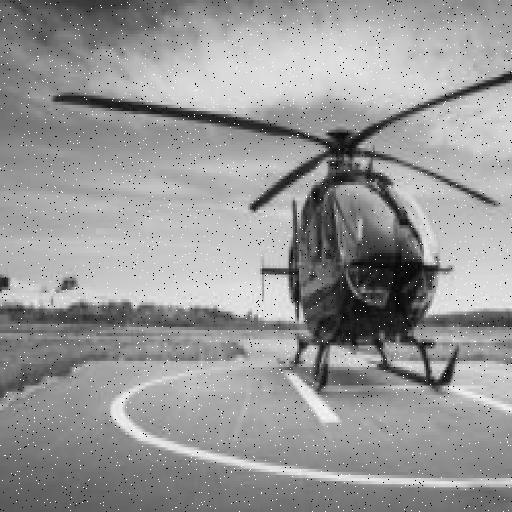helicopter: (54, 44, 512, 396)
